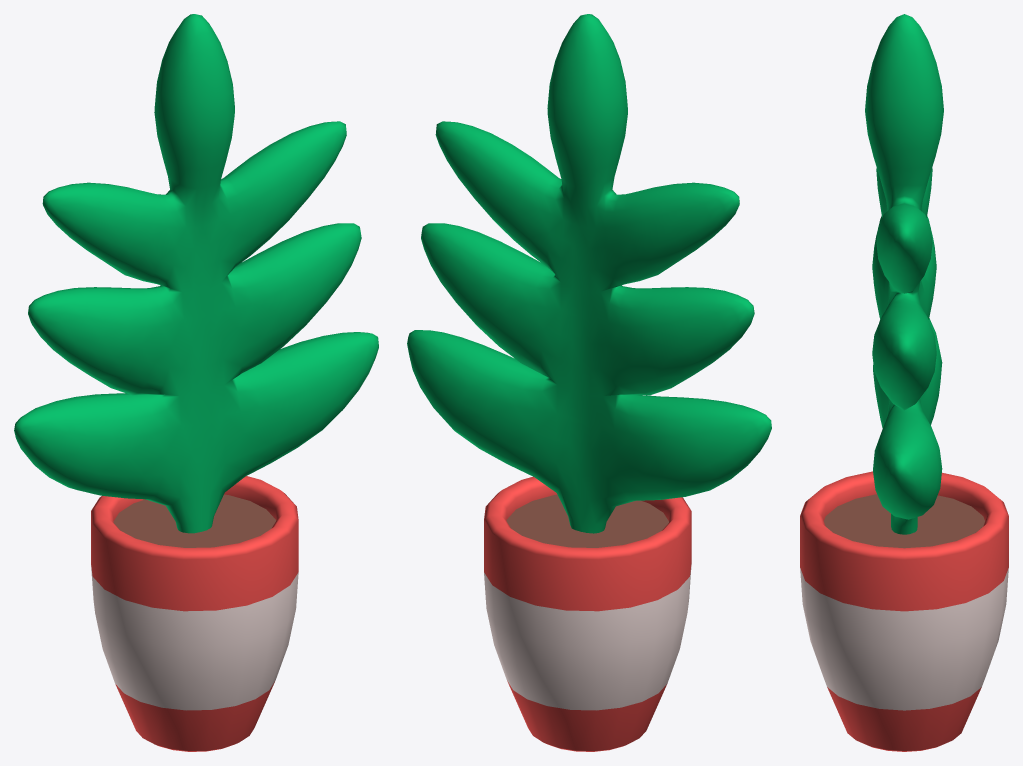
File: Town_16_Plant_2.glb
The picture shows the model from 3 angles, left to right: view 1: azimuth 30°, elevation 25°; view 2: azimuth 150°, elevation 25°; view 3: azimuth 270°, elevation 25°; orthographic projection.
Parts seen in each view (by area): view 1: Town_16_Plant_2; view 2: Town_16_Plant_2; view 3: Town_16_Plant_2.
Part boxes in pixels (box(x1,y1,x2,y2)): Town_16_Plant_2: box(14, 14, 378, 751); Town_16_Plant_2: box(407, 14, 771, 751); Town_16_Plant_2: box(800, 14, 1008, 751).
Bounding box in the file's own units: 0.8548 × 1.61 × 0.4255.
1 material, 1 textured.
